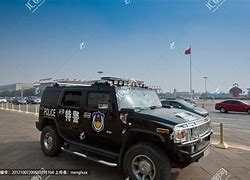specialcar: (36, 58, 215, 170)
